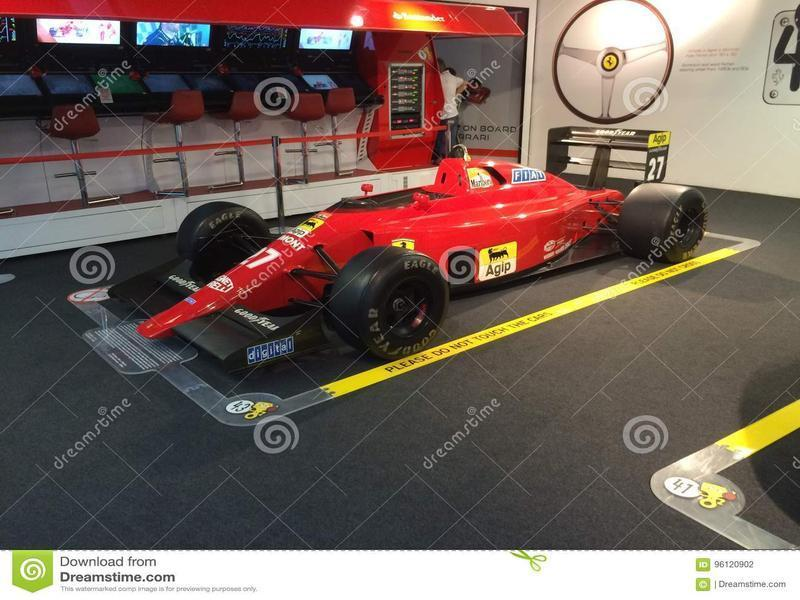f1: (102, 129, 737, 351)
